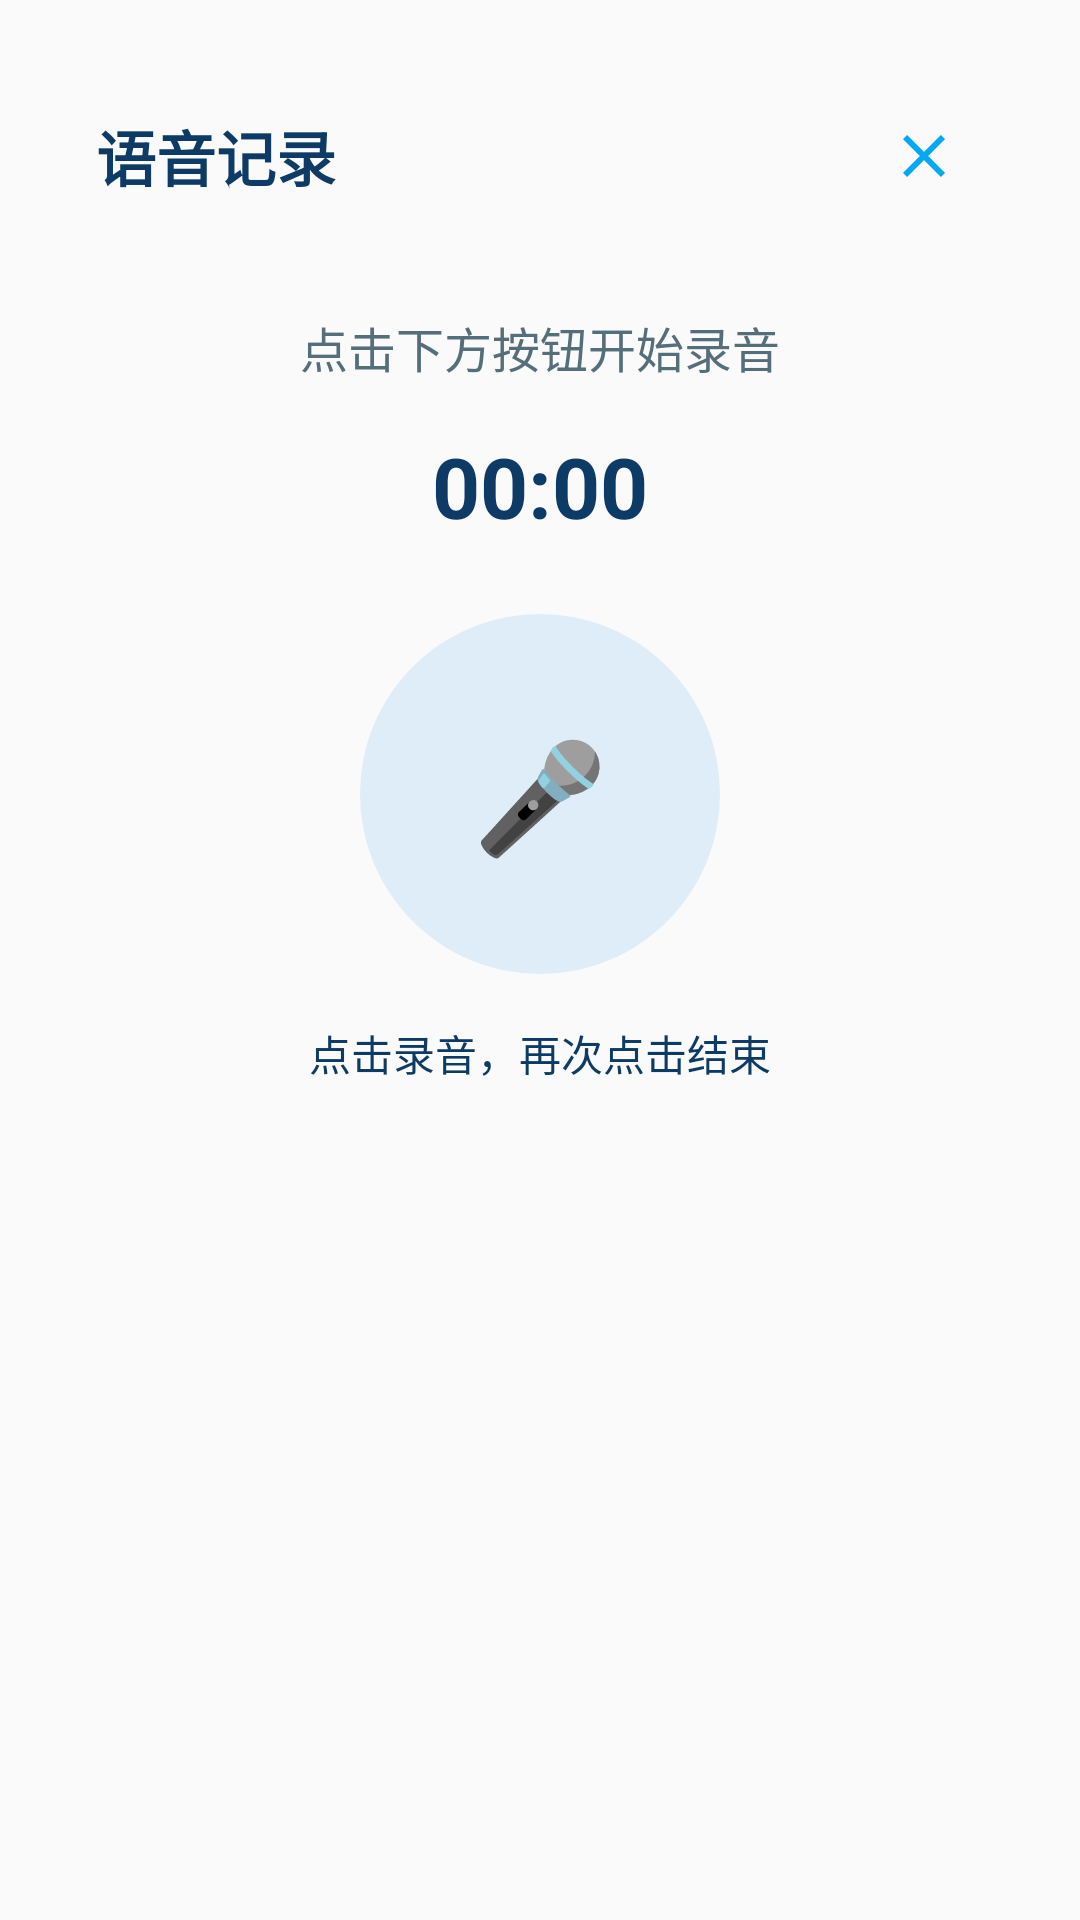

Where to tap for icons on this 1080×1920 app screen, as point (x, y):
关闭: point (924, 156)
